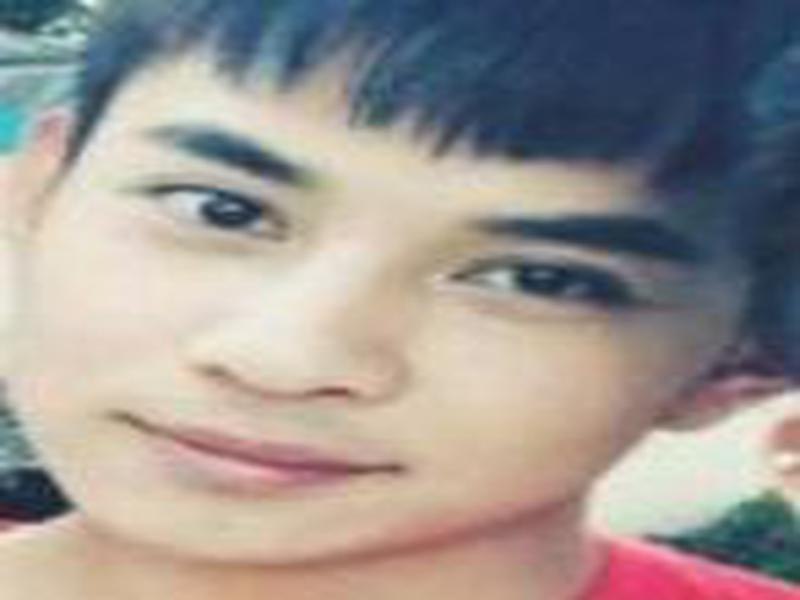without_mask: (8, 79, 726, 566)
